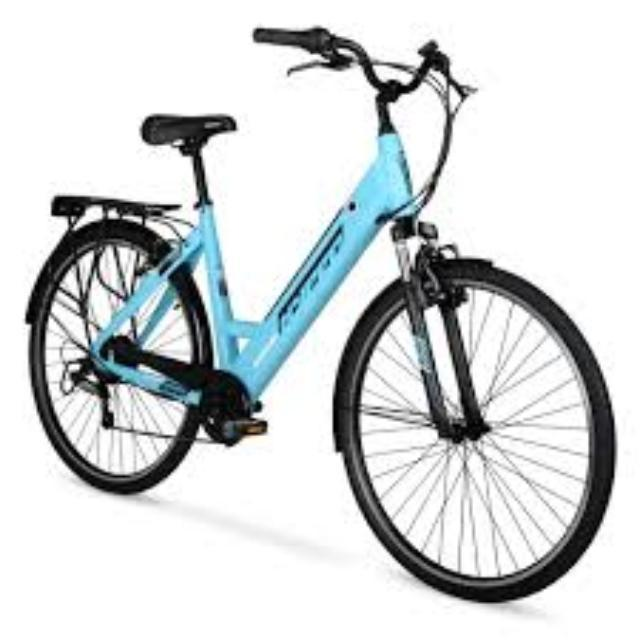obstacle: (16, 14, 636, 616)
